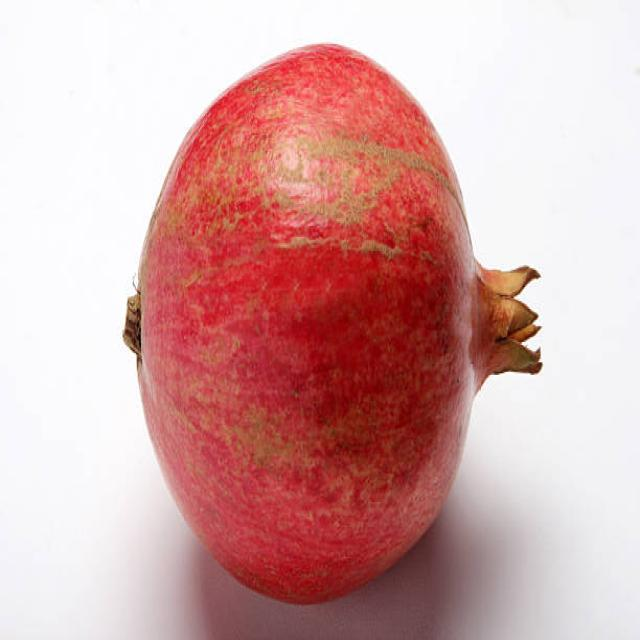Ripe: (117, 31, 546, 610)
